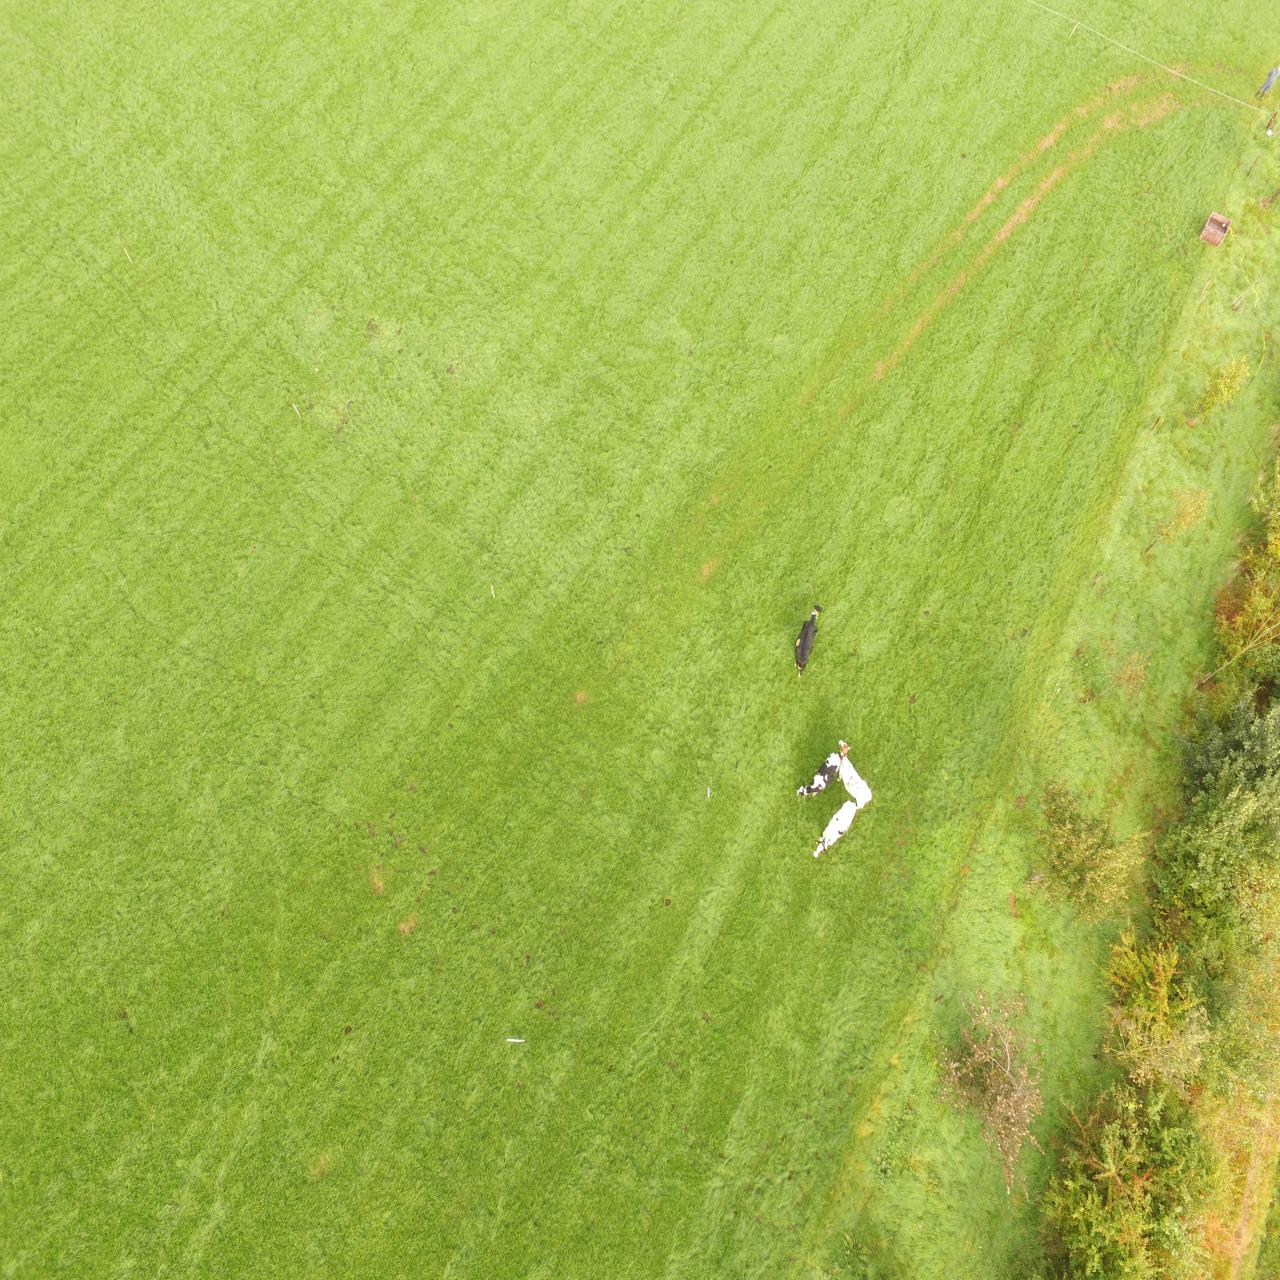cow: (812, 798, 856, 858), (837, 740, 872, 810), (796, 753, 840, 803), (795, 604, 824, 675)
